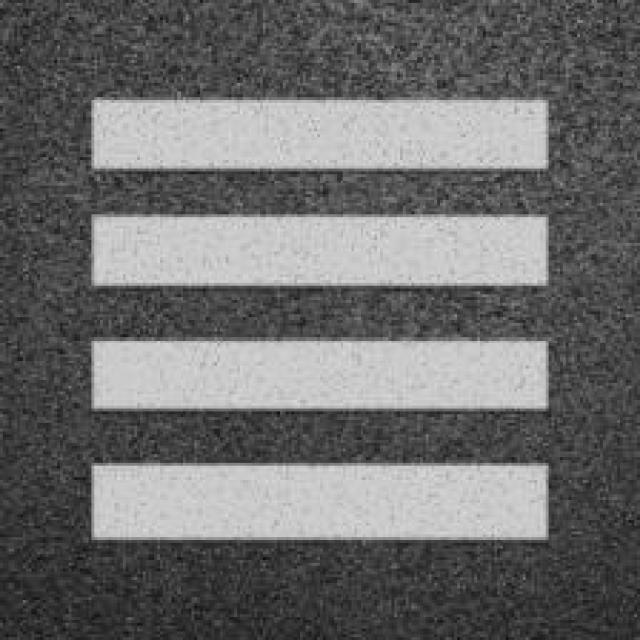walk-crossing: (34, 50, 617, 584)
